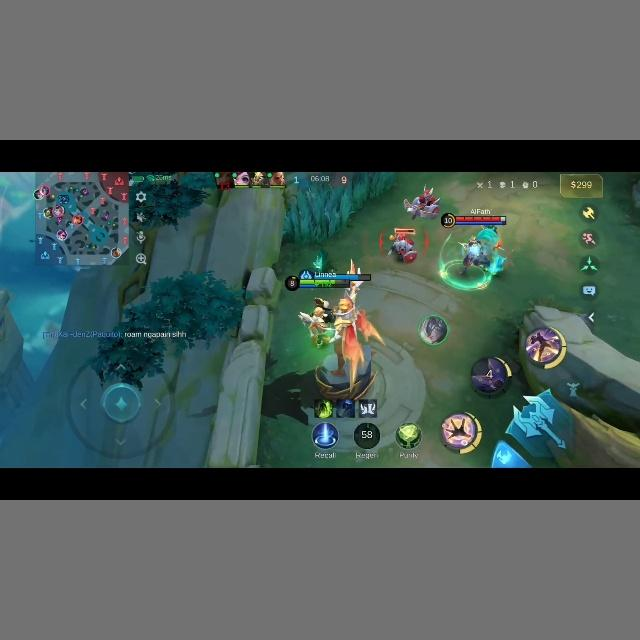hp_enemy: (439, 213, 506, 227)
hp_self: (282, 274, 366, 290)
minion_enemy: (405, 184, 442, 217), (388, 232, 419, 264)
